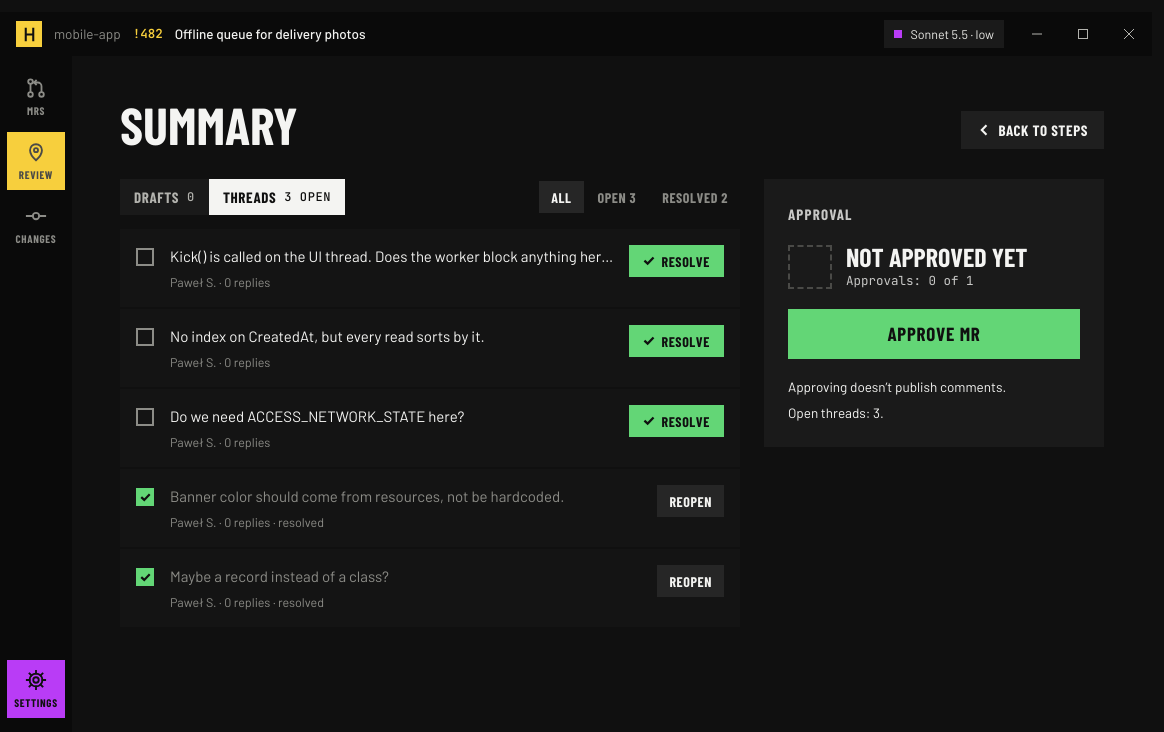
Test: S-05 Threads tab filters (F-13.1) › F-13.1 Open shows only the open threads and is the pressed filter
Click the button "Open 3": (617,197) [586, 181, 648, 213]
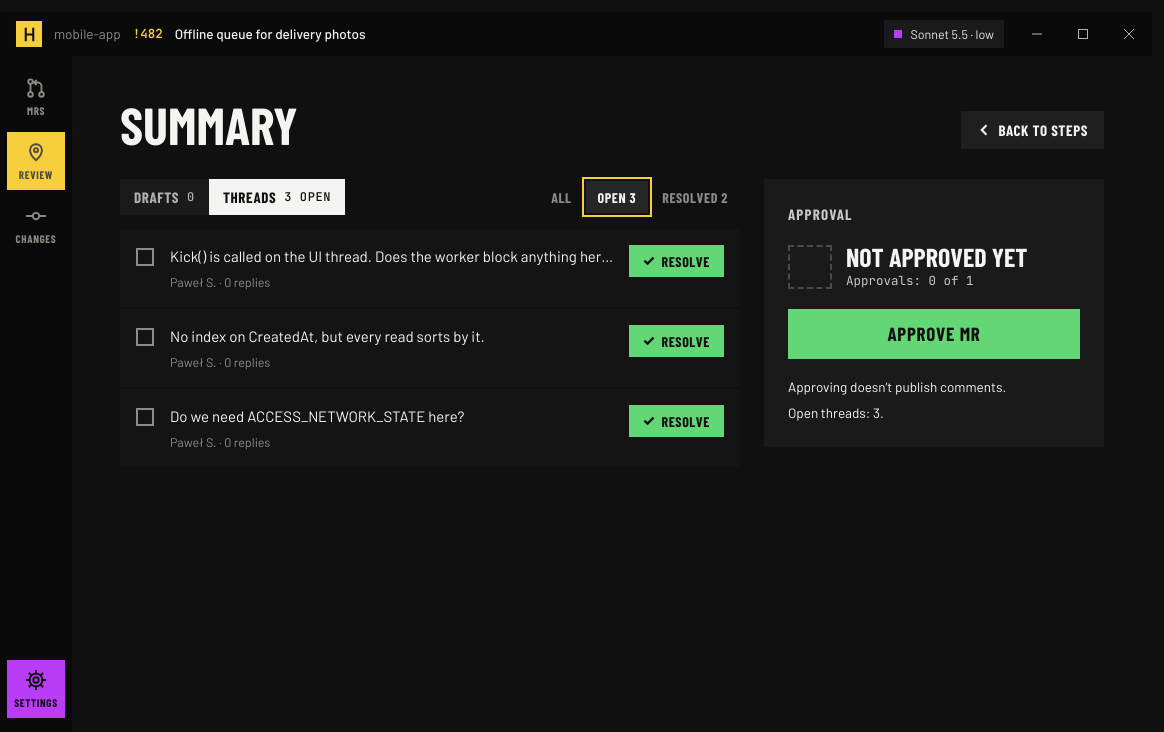
Check: the text "Kick() is called on the UI thread. Does the worker block anything here?" is shown, box [170, 245, 614, 269]
Check: the text "Banner color should come from resources, not be hardcoded." is gone
Check: the text "Maybe a record instead of a class?" is gone
